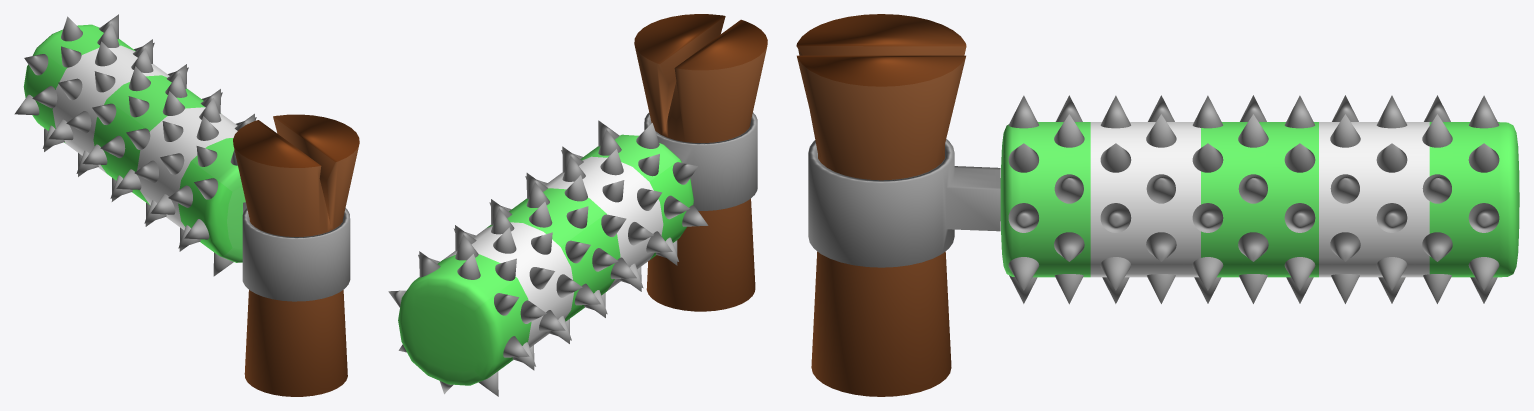
Rendered from trap_trapcirclespikegreen.glb.
The picture shows the model from 3 angles, left to right: view 1: azimuth 30°, elevation 25°; view 2: azimuth 150°, elevation 25°; view 3: azimuth 270°, elevation 25°; orthographic projection. The views are drawn at different scales.
Parts seen in each view (by area): view 1: Cylinder.041_visual, Cylinder.040_visual; view 2: Cylinder.041_visual, Cylinder.040_visual; view 3: Cylinder.041_visual, Cylinder.040_visual.
Part boxes in pixels (box(x1,y1,x2,y2)): Cylinder.041_visual: box(14, 14, 350, 301); Cylinder.040_visual: box(233, 114, 359, 396); Cylinder.041_visual: box(388, 112, 757, 396); Cylinder.040_visual: box(634, 14, 767, 311); Cylinder.041_visual: box(808, 95, 1519, 304); Cylinder.040_visual: box(796, 14, 966, 396).
Size of what is drawn, in the model's own units: 0.4944 by 0.8222 by 1.7.
Materials: 1 (1 with a texture image).
